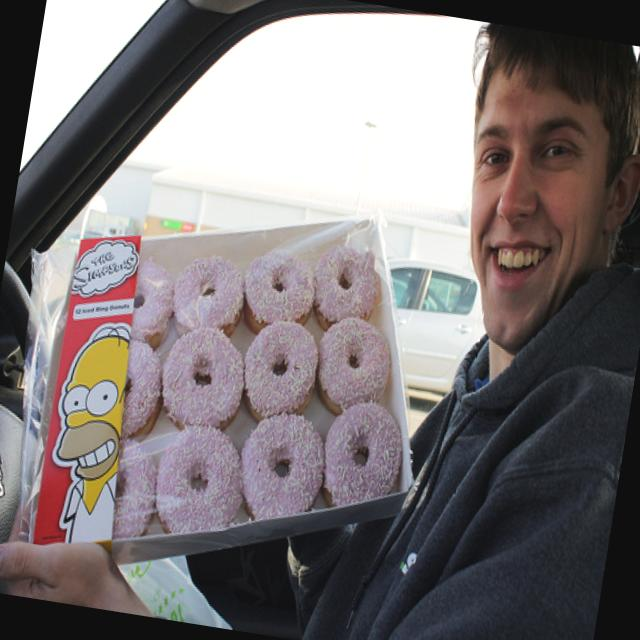Vehicle: (365, 255, 494, 408)
